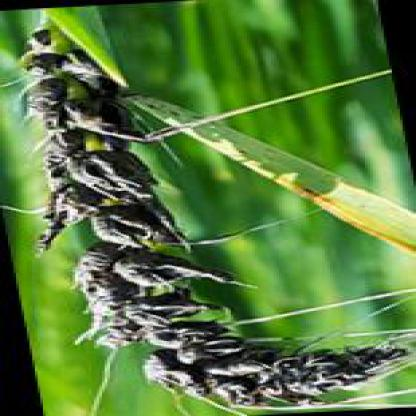Wheat Smut: (46, 144, 134, 194), (80, 260, 177, 304), (169, 345, 262, 387), (33, 96, 135, 132), (270, 352, 374, 380), (25, 52, 88, 86), (107, 318, 213, 338), (57, 203, 165, 215), (95, 220, 171, 237), (226, 388, 305, 399)
